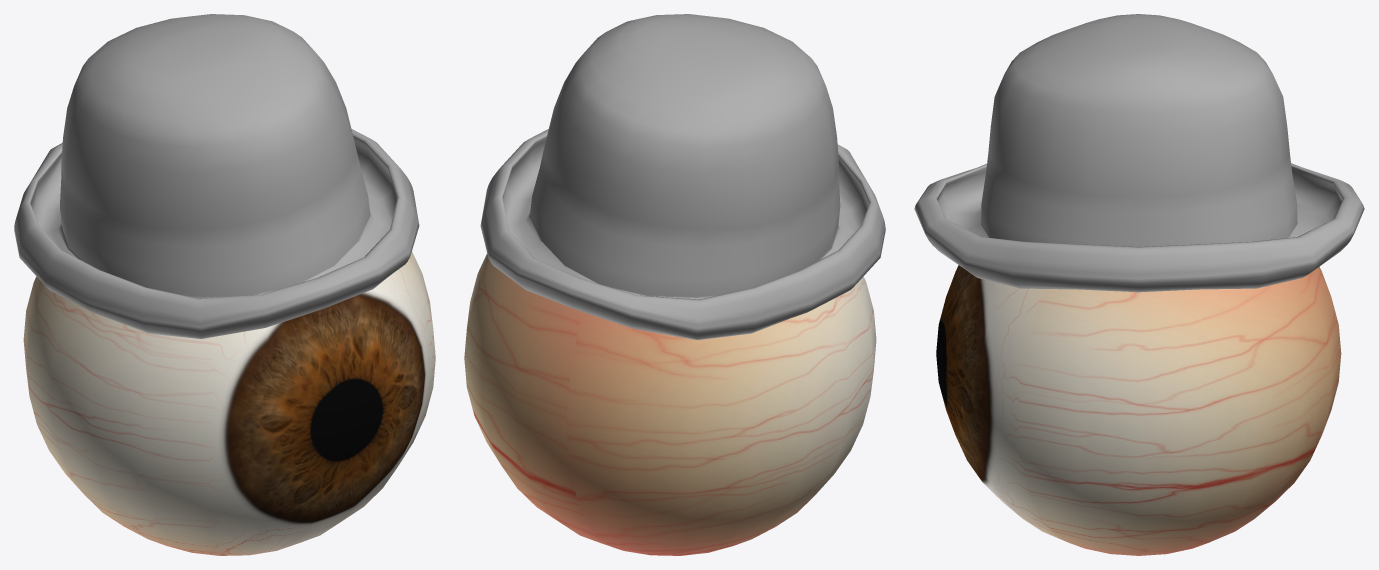
The model's file is eyeballHat.fbx.
3 views of the same model, side by side, from view 1: azimuth 30°, elevation 25°; view 2: azimuth 150°, elevation 25°; view 3: azimuth 270°, elevation 25° (orthographic). The views are drawn at different scales.
Visible parts, largest first — view 1: pSphere2, pSphere1; view 2: pSphere2, pSphere1; view 3: pSphere1, pSphere2.
Part boxes in pixels (x1=…): pSphere2: x1=14, y1=14, x2=419, y2=338; pSphere1: x1=23, y1=251, x2=435, y2=555; pSphere2: x1=480, y1=14, x2=885, y2=339; pSphere1: x1=464, y1=253, x2=876, y2=555; pSphere1: x1=936, y1=265, x2=1341, y2=555; pSphere2: x1=914, y1=14, x2=1364, y2=292.
Size of the model in its own units: 21.79 by 28.77 by 23.87.
